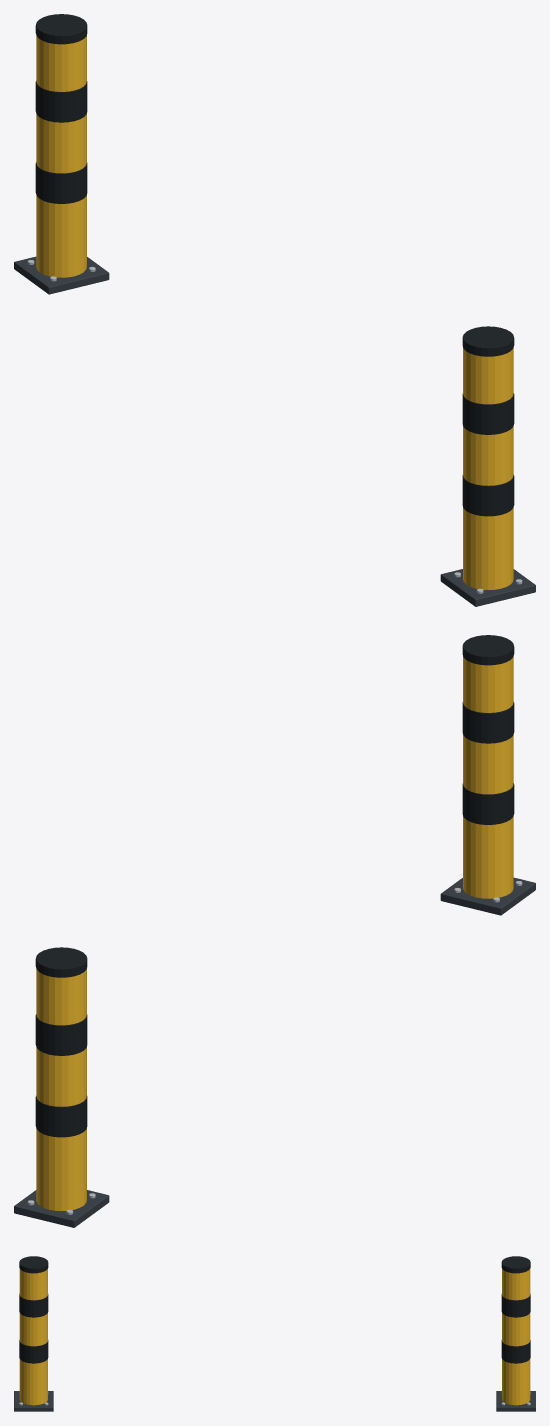
Rendered from SM_ELV_Bollards_L4.fbx.
3 renders of one model, top to bottom at view 1: azimuth 30°, elevation 25°; view 2: azimuth 150°, elevation 25°; view 3: azimuth 270°, elevation 25°, orthographic. The views are drawn at different scales.
Visible parts, largest first — view 1: SM_ELV_Bollards_L4; view 2: SM_ELV_Bollards_L4; view 3: SM_ELV_Bollards_L4.
Boxes of the visible parts, x1=… form: SM_ELV_Bollards_L4: x1=14, y1=14, x2=535, y2=606; SM_ELV_Bollards_L4: x1=14, y1=635, x2=535, y2=1227; SM_ELV_Bollards_L4: x1=14, y1=1256, x2=535, y2=1411.
Bounding box in the file's own units: 25 × 329 × 98.25.
